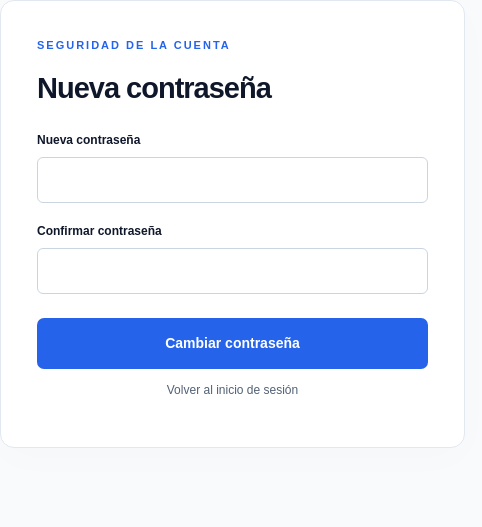
Test: requires matching passwords before confirming
Type "Nueva-clave!9842" into the password field labelled "Nueva contraseña".
click(232, 180); type("Nueva-clave!9842")  # box [37,157,428,203]
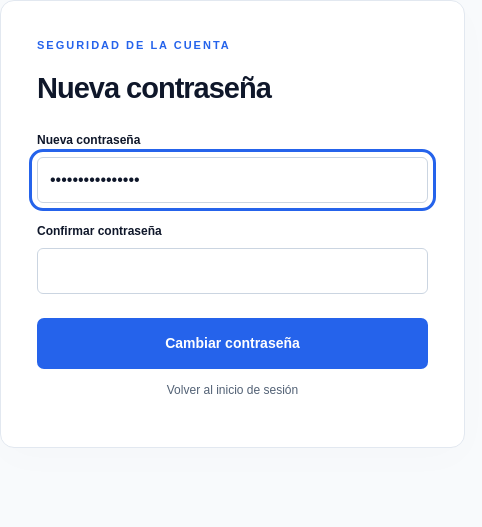
Type "Distinta-clave!9842" into the password field labelled "Confirmar contraseña".
click(232, 271); type("Distinta-clave!9842")  # box [37,248,428,294]
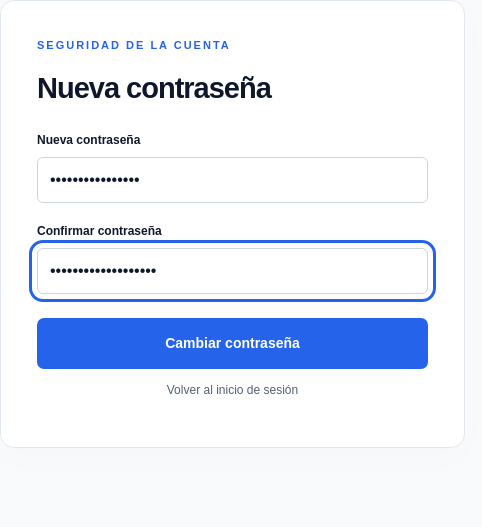
Click the button "Cambiar contraseña".
click(232, 343)  # box [37,318,428,369]
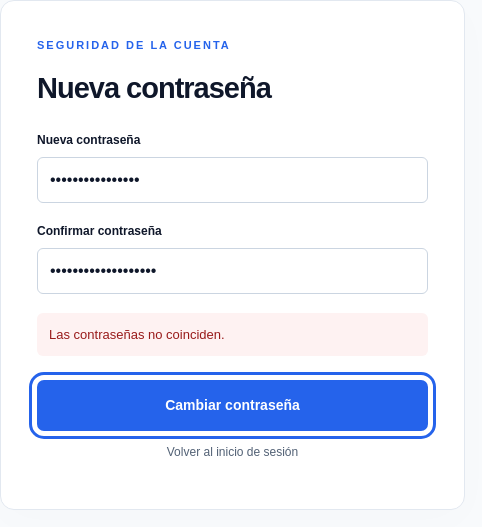
expect the message shows "no coinciden": met, box [49,327,225,342]
